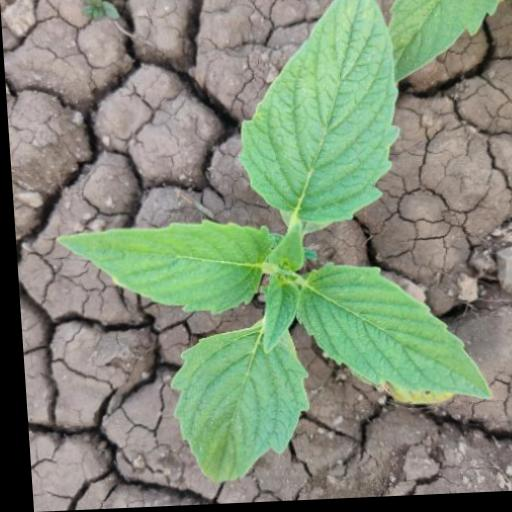crop: (37, 0, 492, 488)
